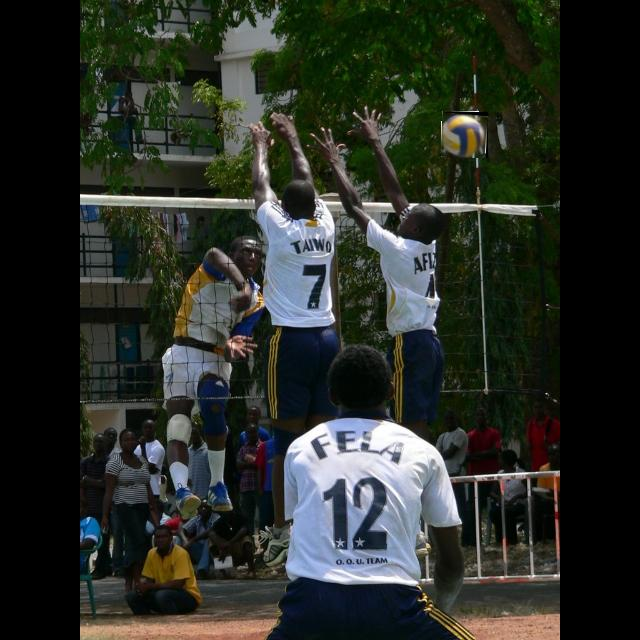Football: (442, 112, 488, 158)
